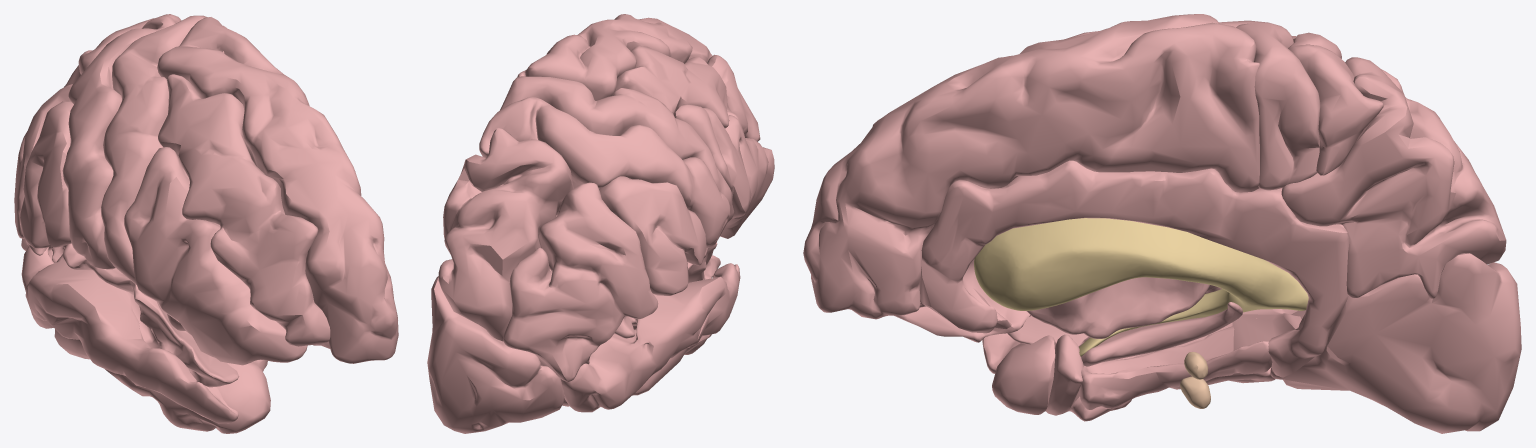
Rendered from nervous-right.v1.glb.
3 views of the same model, side by side, from view 1: azimuth 30°, elevation 25°; view 2: azimuth 150°, elevation 25°; view 3: azimuth 270°, elevation 25° (orthographic). The views are drawn at different scales.
Visible parts, largest first — view 1: right_superior_frontal_gyrus, right_middle_frontal_gyrus, right_inferior_frontal_gyrus, right_middle_temporal_gyrus, right_precentral_gyrus, right_postcentral_gyrus, right_supramarginal_gyrus, white_matter_of_right_cerebral_hemisphere, right_inferior_temporal_gyrus, right_angular_gyrus, right_superior_parietal_lobule; view 2: right_angular_gyrus, right_superior_parietal_lobule, right_occipital_lobe, right_postcentral_gyrus, right_middle_temporal_gyrus, right_superior_frontal_gyrus, right_supramarginal_gyrus, right_precentral_gyrus, right_middle_frontal_gyrus, right_inferior_frontal_gyrus, white_matter_of_right_cerebral_hemisphere, right_inferior_temporal_gyrus; view 3: right_superior_frontal_gyrus, right_cingulate_gyrus, right_occipital_lobe, right_superior_parietal_lobule, right_lateral_ventricle, right_precentral_gyrus, right_parahippocampal_gyrus, right_internal_capsule, right_postcentral_gyrus, white_matter_of_right_cerebral_hemisphere, right_inferior_temporal_gyrus, right_hippocampus (+3 smaller).
Part boxes in pixels (<box>): right_superior_frontal_gyrus: <box>157,17,398,363</box>; right_middle_frontal_gyrus: <box>158,74,330,346</box>; right_inferior_frontal_gyrus: <box>124,147,307,365</box>; right_middle_temporal_gyrus: <box>21,246,238,423</box>; right_precentral_gyrus: <box>101,15,207,284</box>; right_postcentral_gyrus: <box>62,14,181,269</box>; right_supramarginal_gyrus: <box>20,101,73,248</box>; white_matter_of_right_cerebral_hemisphere: <box>52,243,330,387</box>; right_inferior_temporal_gyrus: <box>54,329,270,433</box>; right_angular_gyrus: <box>14,84,72,255</box>; right_superior_parietal_lobule: <box>64,18,153,87</box>; right_angular_gyrus: <box>503,182,658,381</box>; right_superior_parietal_lobule: <box>438,128,573,341</box>; right_occipital_lobe: <box>427,276,564,433</box>; right_postcentral_gyrus: <box>479,96,730,247</box>; right_middle_temporal_gyrus: <box>560,263,740,412</box>; right_superior_frontal_gyrus: <box>517,14,712,100</box>; right_supramarginal_gyrus: <box>599,176,706,295</box>; right_precentral_gyrus: <box>500,76,733,222</box>; right_middle_frontal_gyrus: <box>612,46,760,141</box>; right_inferior_frontal_gyrus: <box>674,104,774,238</box>; white_matter_of_right_cerebral_hemisphere: <box>614,242,720,338</box>; right_inferior_temporal_gyrus: <box>562,334,711,406</box>; right_superior_frontal_gyrus: <box>803,14,1259,319</box>; right_cingulate_gyrus: <box>919,160,1349,377</box>; right_occipital_lobe: <box>1270,253,1521,433</box>; right_superior_parietal_lobule: <box>1281,57,1506,298</box>; right_lateral_ventricle: <box>974,218,1308,356</box>; right_precentral_gyrus: <box>1219,20,1320,190</box>; right_parahippocampal_gyrus: <box>1079,318,1272,409</box>; right_internal_capsule: <box>1026,277,1209,338</box>; right_postcentral_gyrus: <box>1288,32,1383,175</box>; white_matter_of_right_cerebral_hemisphere: <box>894,259,1305,372</box>; right_inferior_temporal_gyrus: <box>992,335,1131,414</box>; right_hippocampus: <box>1081,302,1242,366</box>.
Size of the model in its own units: 0.0691 by 0.1169 by 0.1799.
